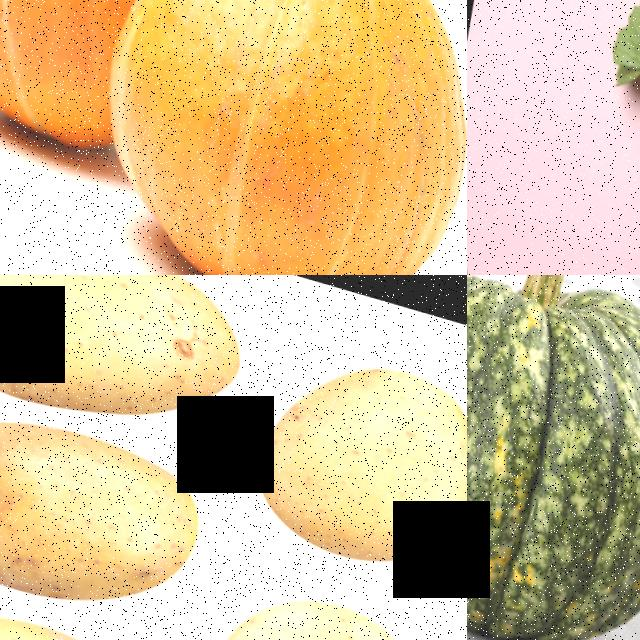potato: (236, 318, 467, 582), (0, 374, 215, 636), (0, 275, 264, 454), (168, 551, 465, 640)
pumpkin: (104, 0, 467, 275), (467, 275, 640, 640), (0, 0, 182, 184)
